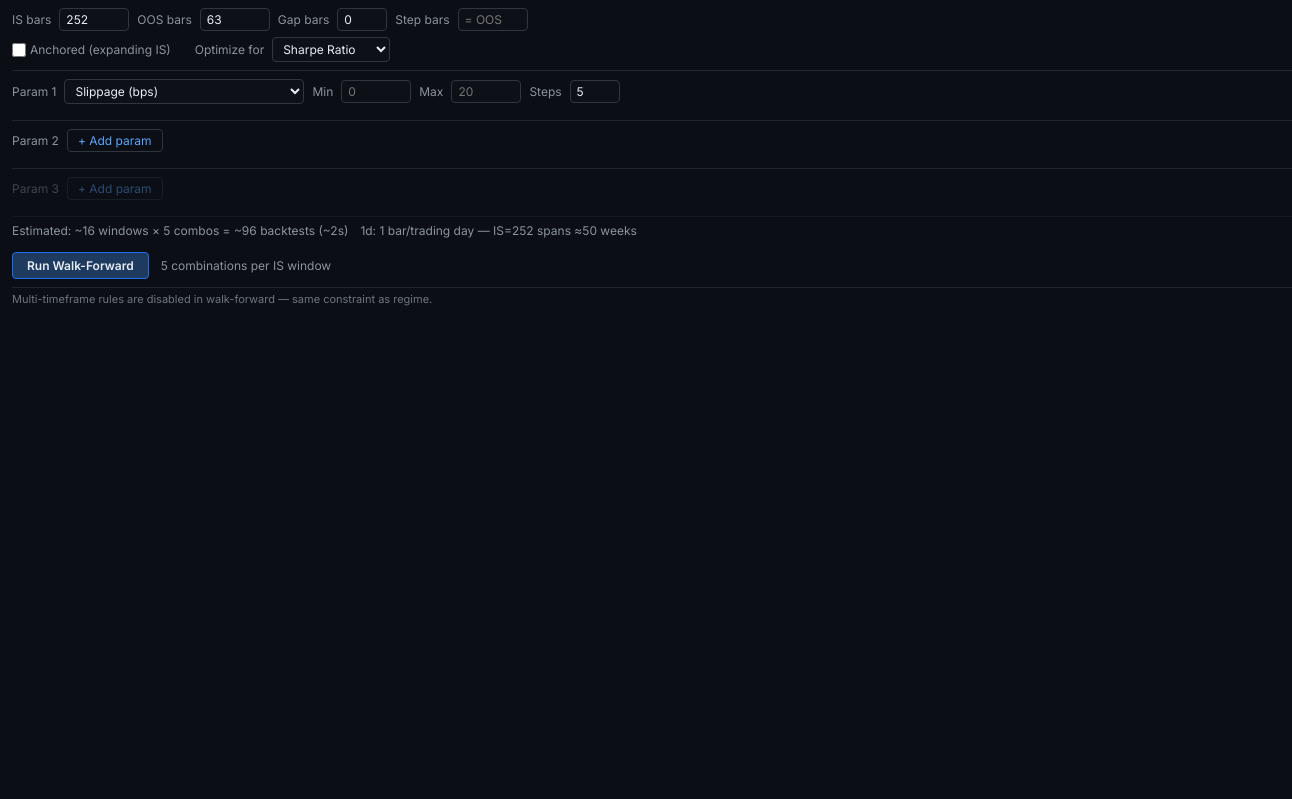
Test: WalkForwardPanel › renders result table after successful response
Click the button "Run Walk-Forward" at (80, 266), box [12,252,149,279]
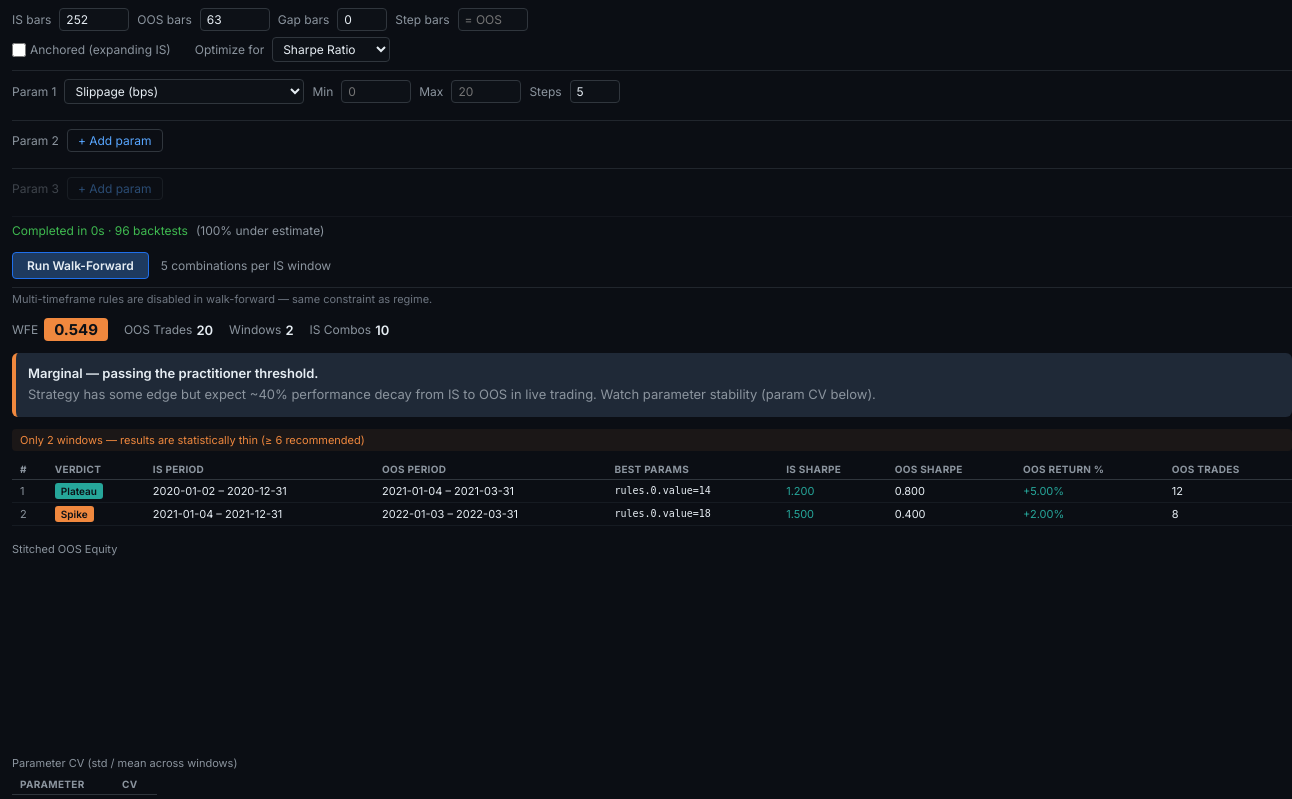
Check: the text "WFE" is shown, box [12,322,38,337]
Check: the text "Plateau" is shown, box [55,482,103,498]
Check: the text "Spike" is shown, box [55,506,94,522]
